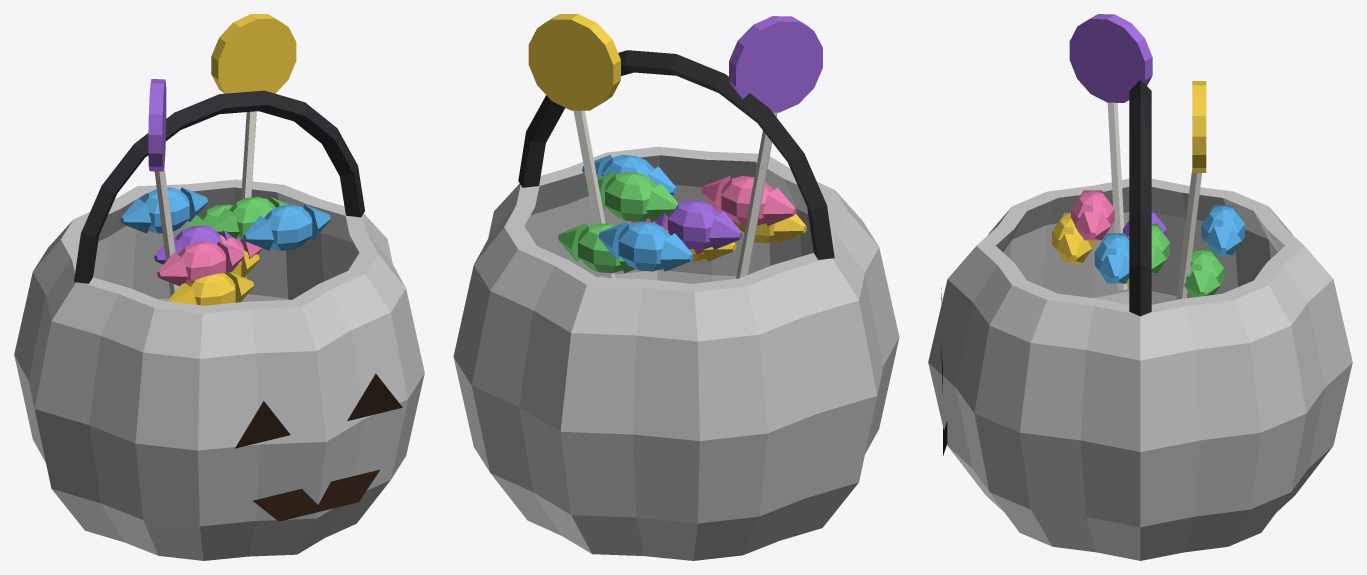
Rendered from ev_candy_bucket_v01.glb.
The picture shows the model from 3 angles, left to right: view 1: azimuth 30°, elevation 25°; view 2: azimuth 150°, elevation 25°; view 3: azimuth 270°, elevation 25°; orthographic projection. The views are drawn at different scales.
Visible parts, largest first — view 1: candy_bucket; view 2: candy_bucket; view 3: candy_bucket.
Part boxes in pixels (<box>): candy_bucket: <box>14,14,424,560</box>; candy_bucket: <box>453,14,899,560</box>; candy_bucket: <box>928,14,1352,560</box>.
Size of the model in its own units: 0.462 by 0.53 by 0.462.
